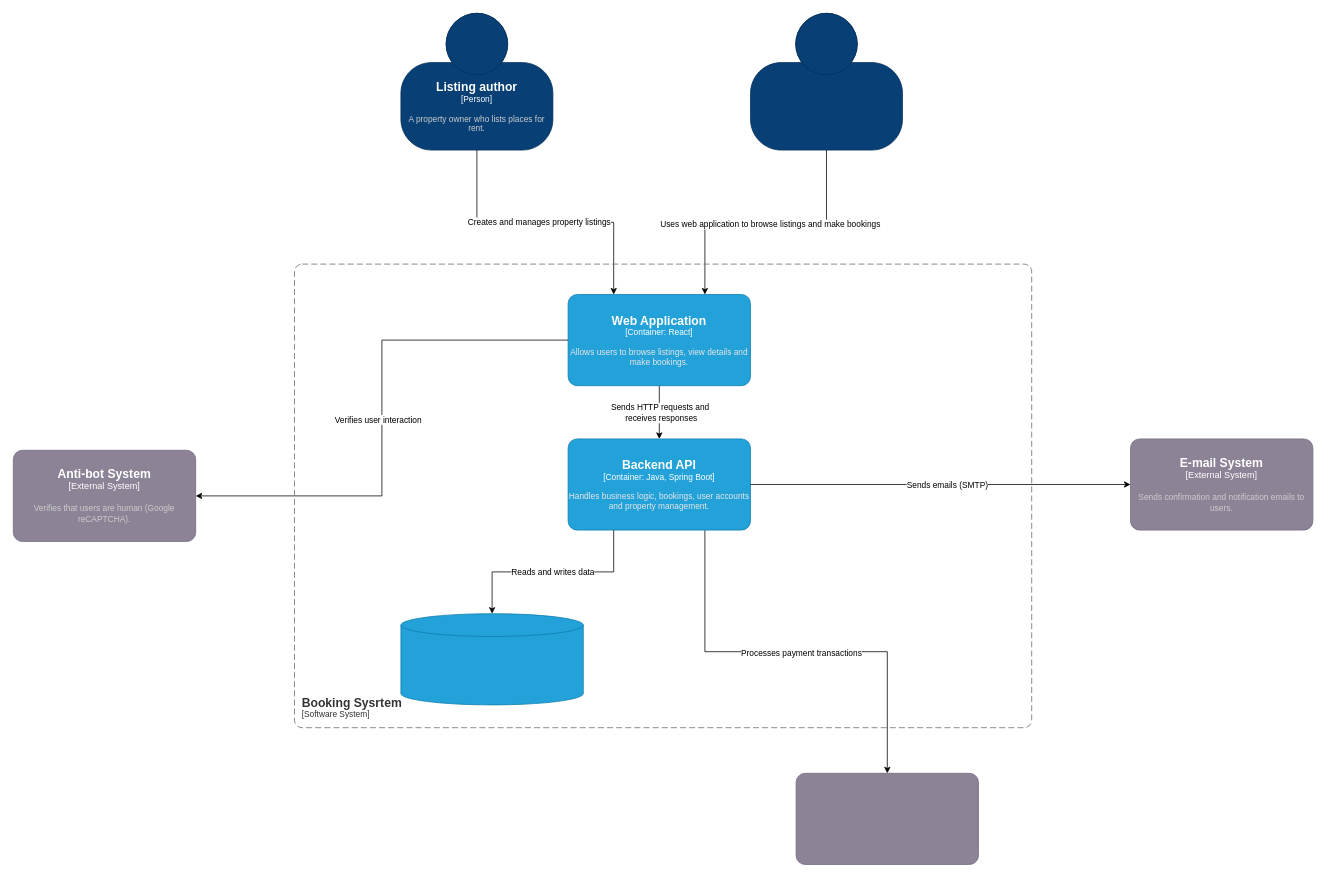
This 1326x878 diagram has some shape labels left out. Here are the shapes that lost their labels. From the top down, the centre of each, then its label:
point 826,81: Client [Person] A customer looking to book a place.
point 491,659: Database [Container: MySQL] Stores users, properties, bookings and reviews.
point 886,818: Payment System [External System] Processes payments for bookings.
